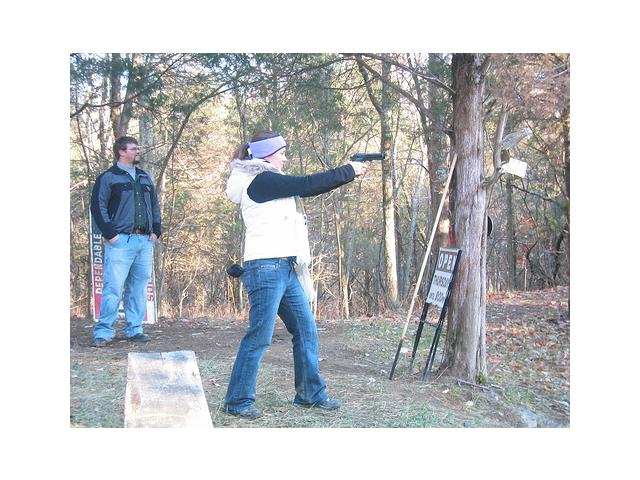pistol: (347, 152, 386, 183)
